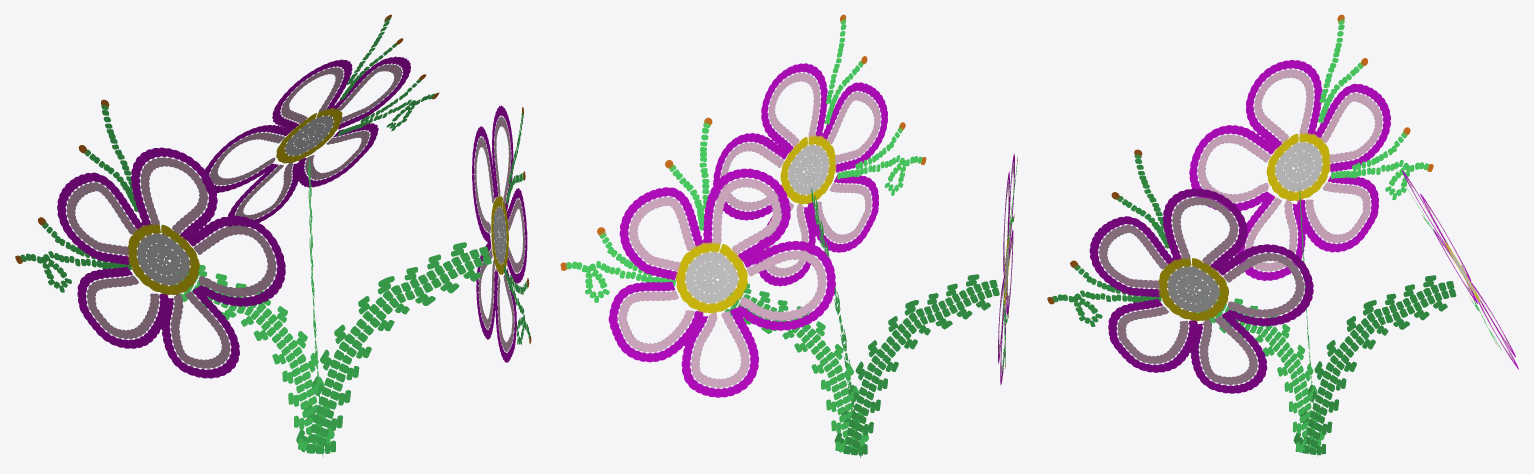
The model's file is prairie-crocus.glb.
The picture shows the model from 3 angles, left to right: view 1: azimuth 30°, elevation 25°; view 2: azimuth 150°, elevation 25°; view 3: azimuth 270°, elevation 25°; orthographic projection. The views are drawn at different scales.
Visible parts, largest first — view 1: prairie-crocus; view 2: prairie-crocus; view 3: prairie-crocus.
Part boxes in pixels (x1,y1,x2,y2): prairie-crocus: (15,14,531,457); prairie-crocus: (560,14,1017,457); prairie-crocus: (1047,14,1518,456).
Bounding box in the file's own units: 3.27 × 2.66 × 3.23.
1 material, 1 textured.
